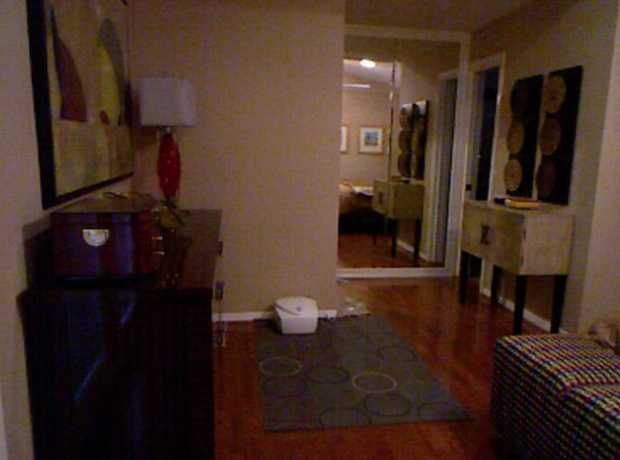cabinet: (30, 205, 227, 458), (460, 200, 577, 334), (369, 177, 422, 261)
openedDoor: (469, 60, 504, 197)
